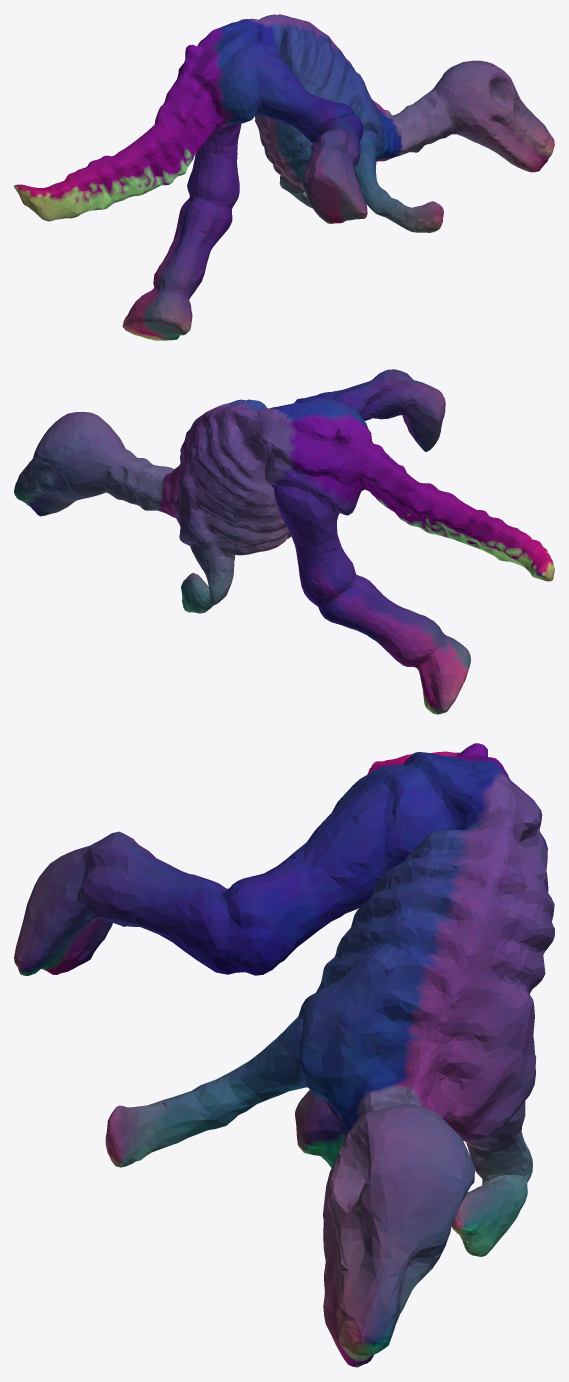
The model's file is dino_skel-4.off.obj.
3 renders of one model, top to bottom at view 1: azimuth 30°, elevation 25°; view 2: azimuth 150°, elevation 25°; view 3: azimuth 270°, elevation 25°, orthographic. The views are drawn at different scales.
Bounding box in the file's own units: 1.71 × 0.8708 × 0.8308.
